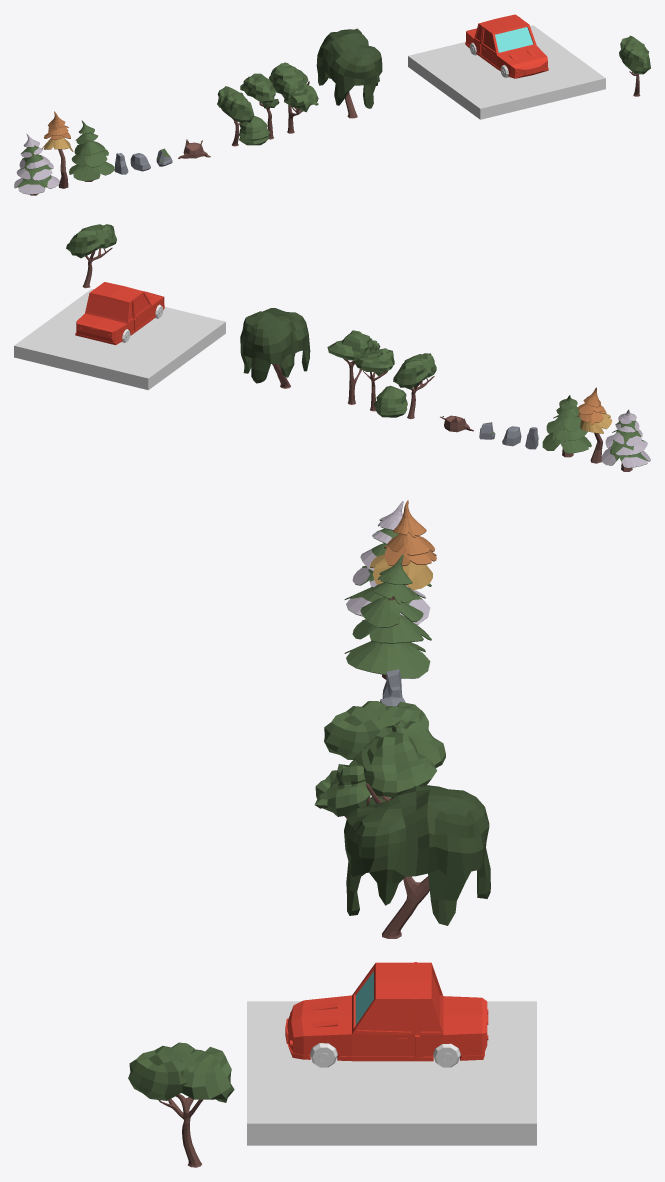
File: testMap.glb
3 views of the same model, one above another, from view 1: azimuth 30°, elevation 25°; view 2: azimuth 150°, elevation 25°; view 3: azimuth 270°, elevation 25° (orthographic). The views are drawn at different scales.
Parts seen in each view (by area): view 1: Cube, Willow_4, Car, CommonTree_2, PineTree_Snow_1, PineTree_1, CommonTree_5, CommonTree_5.001, CommonTree_4, PineTree_Autumn_4, Bush_2, TreeStump (+1 smaller); view 2: Cube, Willow_4, Car, PineTree_Snow_1, PineTree_1, CommonTree_5.001, CommonTree_5, CommonTree_2, PineTree_Autumn_4, CommonTree_4, Bush_2; view 3: Cube, Willow_4, Car, PineTree_1, CommonTree_5.001, CommonTree_2, CommonTree_5, PineTree_Autumn_4, PineTree_Snow_1, CommonTree_4.
Part boxes in pixels (box(x1,y1,x2,y2)): Cube: box(408, 25, 605, 119); Willow_4: box(316, 28, 382, 118); Car: box(465, 14, 548, 78); CommonTree_2: box(269, 62, 318, 133); PineTree_Snow_1: box(14, 133, 59, 195); PineTree_1: box(69, 120, 114, 181); CommonTree_5: box(217, 86, 254, 146); CommonTree_5.001: box(619, 35, 650, 96); CommonTree_4: box(240, 73, 279, 139); PineTree_Autumn_4: box(42, 111, 73, 188); Bush_2: box(239, 116, 269, 145); TreeStump: box(178, 139, 210, 158); Cube: box(14, 289, 225, 390); Willow_4: box(240, 308, 310, 388); Car: box(75, 282, 164, 345); PineTree_Snow_1: box(601, 409, 650, 471); PineTree_1: box(542, 395, 591, 457); CommonTree_5.001: box(66, 224, 116, 288); CommonTree_5: box(393, 353, 436, 419); CommonTree_2: box(327, 330, 380, 404); PineTree_Autumn_4: box(578, 387, 612, 463); CommonTree_4: box(354, 348, 394, 411); Bush_2: box(374, 385, 407, 417); Cube: box(247, 1001, 536, 1145); Willow_4: box(344, 785, 490, 938); Car: box(285, 962, 488, 1061); PineTree_1: box(344, 554, 431, 679); CommonTree_5.001: box(128, 1042, 234, 1167); CommonTree_2: box(314, 731, 436, 818); CommonTree_5: box(324, 701, 428, 759); PineTree_Autumn_4: box(370, 500, 436, 590); PineTree_Snow_1: box(344, 501, 431, 624); CommonTree_4: box(364, 720, 445, 767).
Size of what is drawn, in the model's own units: 27.95 by 3.5 by 8.46.
